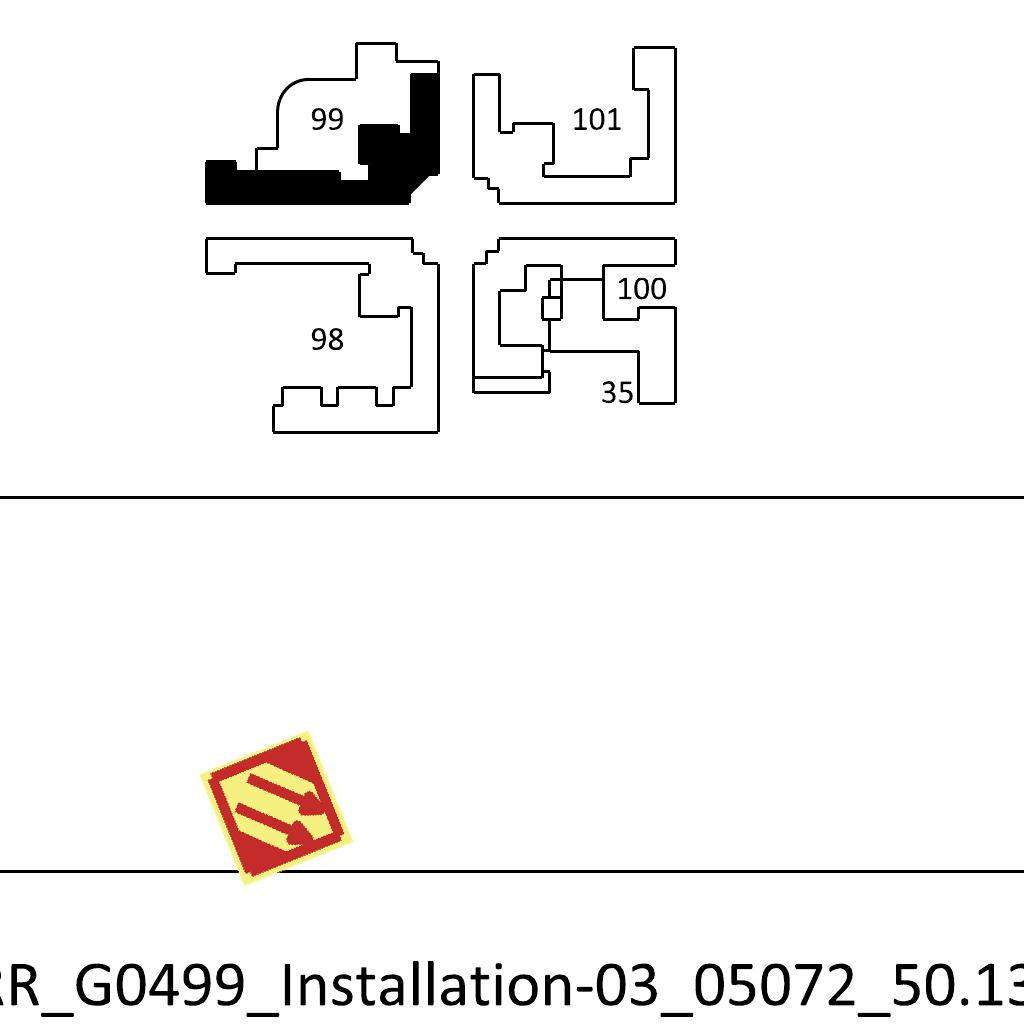ASR_Ansaugrauchmelder: (195, 727, 358, 890)
